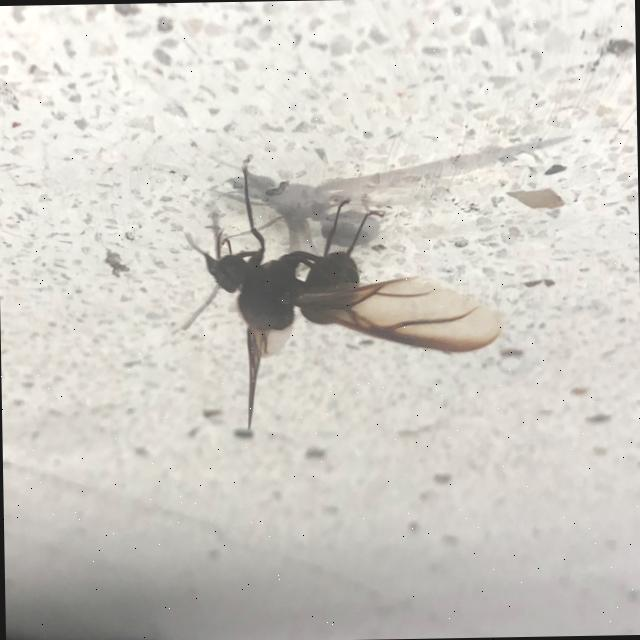Alive-Female-Alate: (177, 160, 502, 431)
